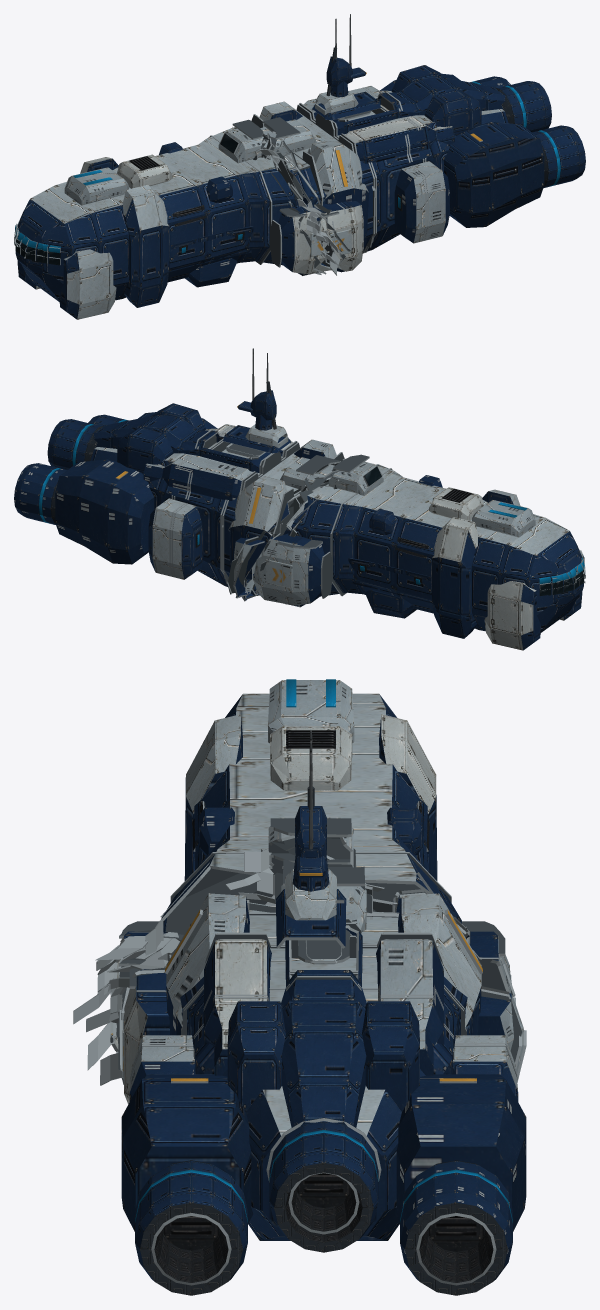
File: concord-frigate-wreck-v3.glb
3 renders of one model, top to bottom at view 1: azimuth 30°, elevation 25°; view 2: azimuth 150°, elevation 25°; view 3: azimuth 270°, elevation 25°, orthographic. The views are drawn at different scales.
Visible parts, largest first — view 1: Frigate wreck engine section, Frigate wreck forward section, Frigate wreck command tower, Frigate wreck ejected structure 2, Frigate wreck ejected structure 1; view 2: Frigate wreck forward section, Frigate wreck engine section, Frigate wreck command tower, Frigate wreck ejected structure 1, Frigate wreck ejected structure 2; view 3: Frigate wreck engine section, Frigate wreck forward section, Frigate wreck command tower, Frigate wreck ejected structure 2.
Boxes of the visible parts, left/top/right/bottom form: Frigate wreck engine section: left=251, top=65, right=585, bottom=275; Frigate wreck forward section: left=14, top=119, right=341, bottom=319; Frigate wreck command tower: left=315, top=14, right=366, bottom=110; Frigate wreck ejected structure 2: left=352, top=91, right=380, bottom=114; Frigate wreck ejected structure 1: left=311, top=101, right=352, bottom=120; Frigate wreck forward section: left=253, top=454, right=585, bottom=650; Frigate wreck engine section: left=14, top=403, right=344, bottom=601; Frigate wreck command tower: left=237, top=348, right=287, bottom=443; Frigate wreck ejected structure 1: left=247, top=435, right=291, bottom=453; Frigate wreck ejected structure 2: left=223, top=425, right=249, bottom=446; Frigate wreck engine section: left=86, top=859, right=526, bottom=1295; Frigate wreck forward section: left=73, top=679, right=515, bottom=1084; Frigate wreck command tower: left=285, top=730, right=336, bottom=915; Frigate wreck ejected structure 2: left=276, top=910, right=345, bottom=948.
Size of the model in its own units: 2.32 by 0.9599 by 0.8806.
Materials: 3 (1 with a texture image).
